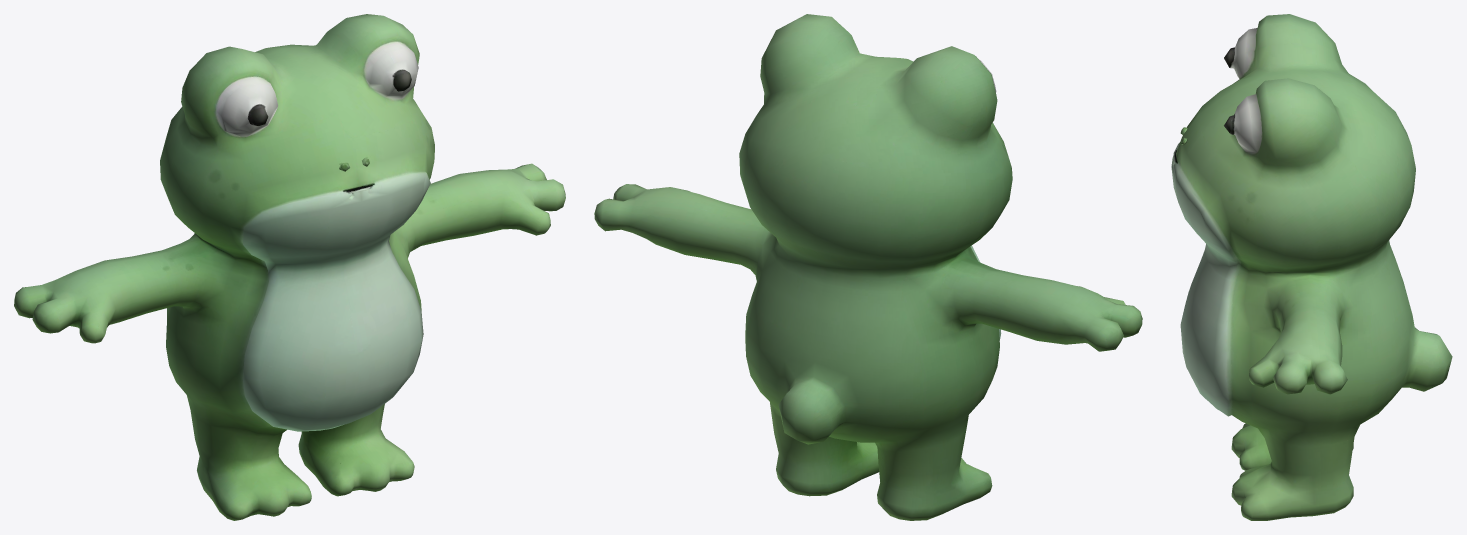
File: frog.glb
The picture shows the model from 3 angles, left to right: view 1: azimuth 30°, elevation 25°; view 2: azimuth 150°, elevation 25°; view 3: azimuth 270°, elevation 25°; orthographic projection. The views are drawn at different scales.
Visible parts, largest first — view 1: tripo_node_289729c7-d6be-4249-b81c-d337db079d67; view 2: tripo_node_289729c7-d6be-4249-b81c-d337db079d67; view 3: tripo_node_289729c7-d6be-4249-b81c-d337db079d67.
Boxes of the visible parts, <box> form: tripo_node_289729c7-d6be-4249-b81c-d337db079d67: <box>14,14,565,520</box>; tripo_node_289729c7-d6be-4249-b81c-d337db079d67: <box>594,14,1142,520</box>; tripo_node_289729c7-d6be-4249-b81c-d337db079d67: <box>1171,14,1452,520</box>.
Size of the model in its own units: 0.9782 by 0.802 by 0.4728.
1 material, 1 textured.
